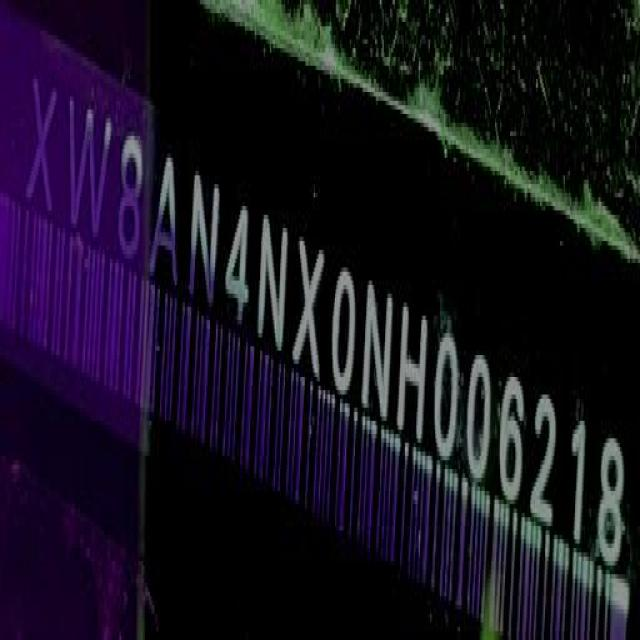0: (432, 318, 460, 471), (330, 258, 358, 407), (465, 349, 491, 493)
1: (570, 413, 590, 557)
2: (529, 386, 557, 532)
4: (226, 199, 252, 327)
6: (498, 369, 526, 509)
8: (596, 419, 623, 573), (117, 126, 145, 266)
A: (150, 149, 181, 295)
H: (398, 297, 429, 453)
N: (362, 278, 396, 435), (189, 165, 224, 313), (258, 210, 292, 354)
W: (65, 92, 113, 246)
X: (24, 73, 57, 224), (296, 231, 326, 379)
